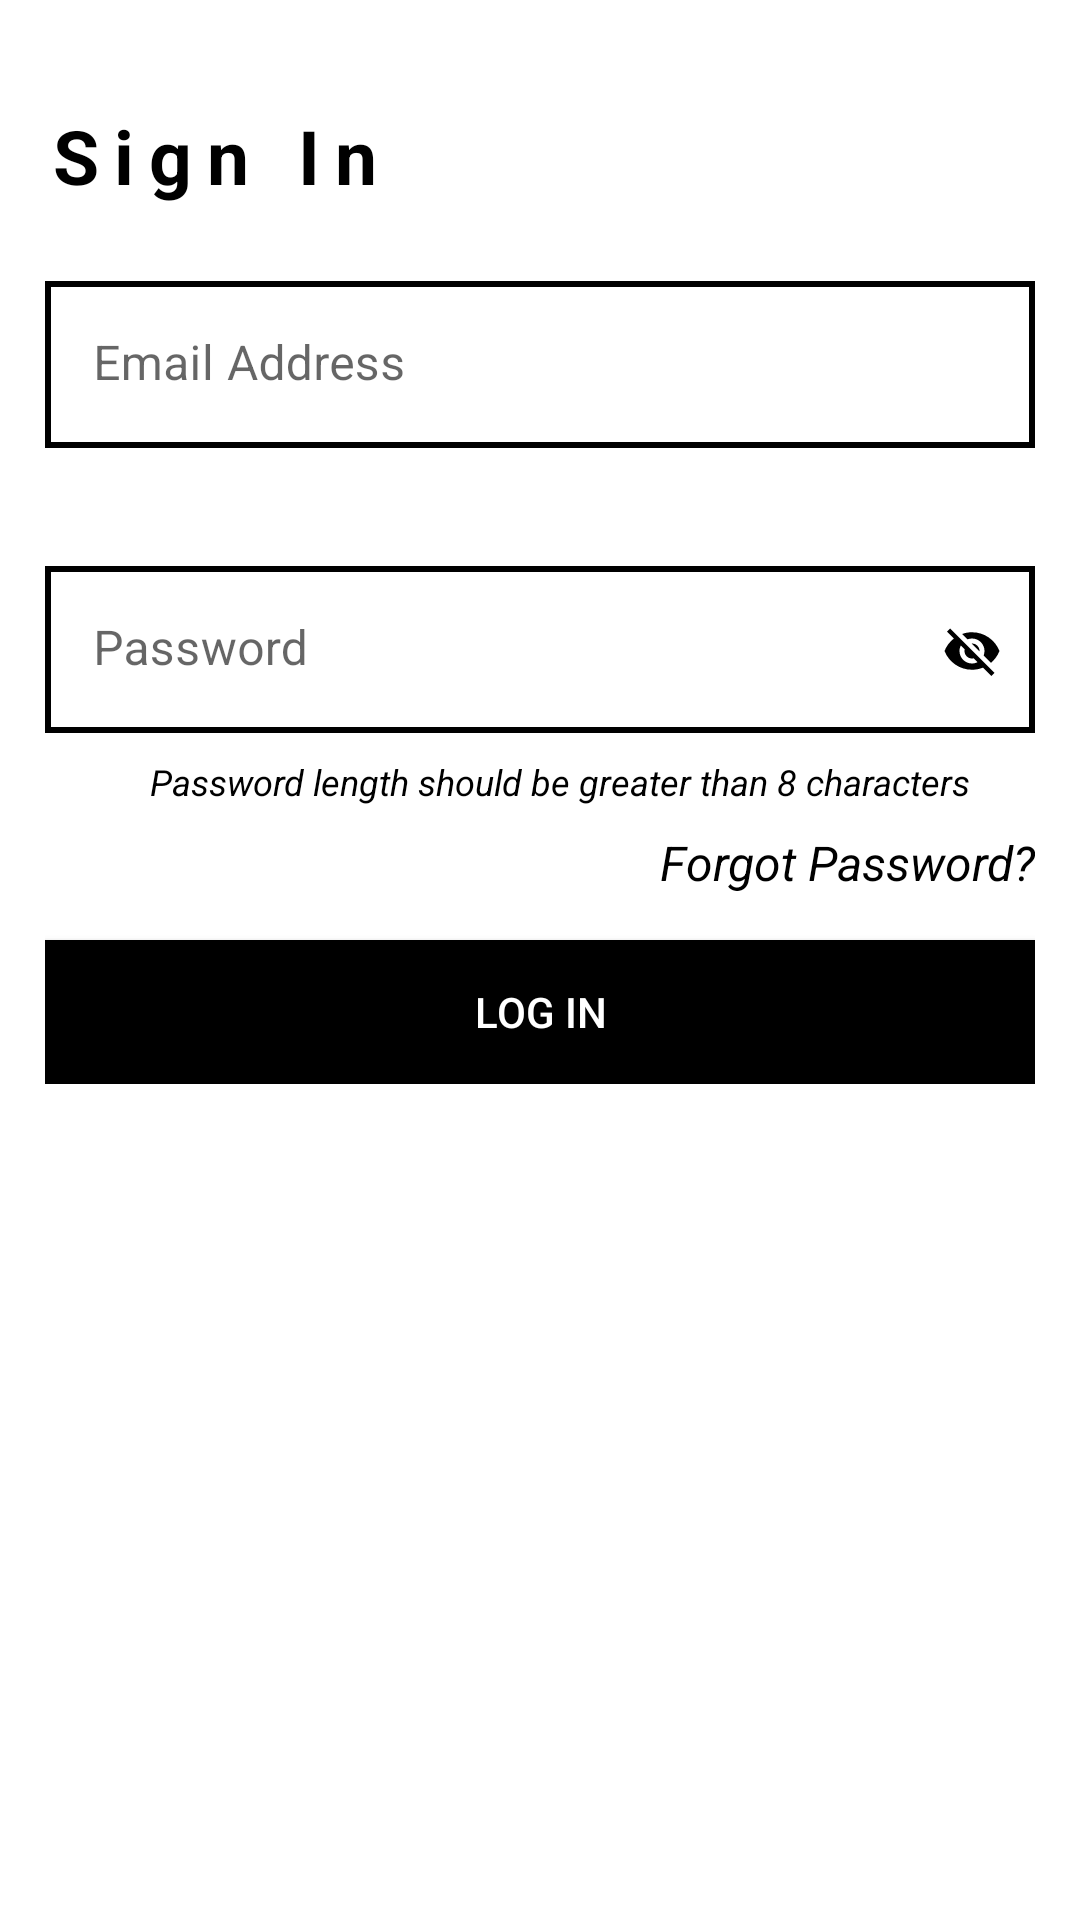

Icons on this 1080×1920 Android screen, each with the point to tap as (x=x, y=y):
visibility off: (x=972, y=652)
